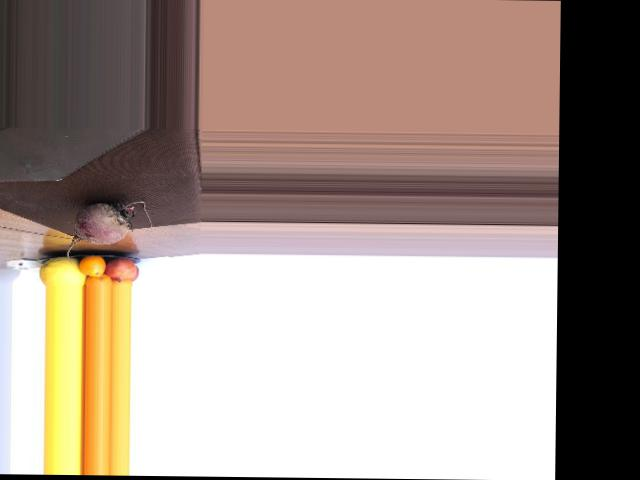beet: (66, 199, 152, 264)
